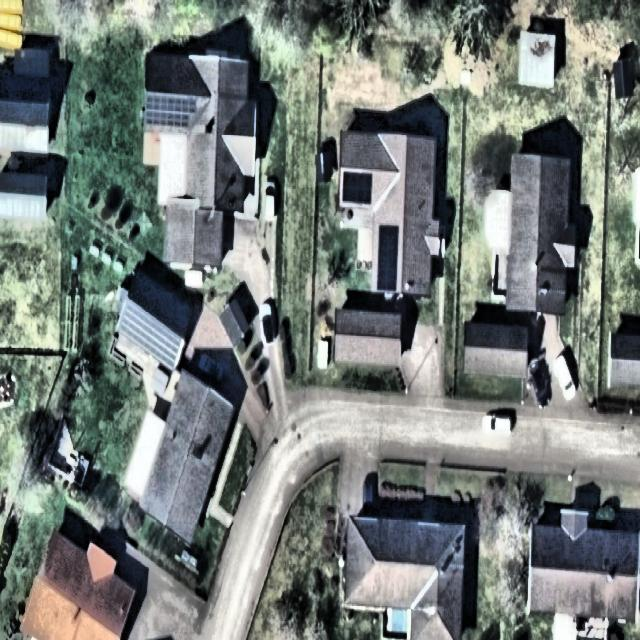roof_pv: (146, 312, 182, 369), (146, 95, 197, 130), (376, 220, 400, 292), (118, 300, 146, 350), (341, 170, 374, 206)
